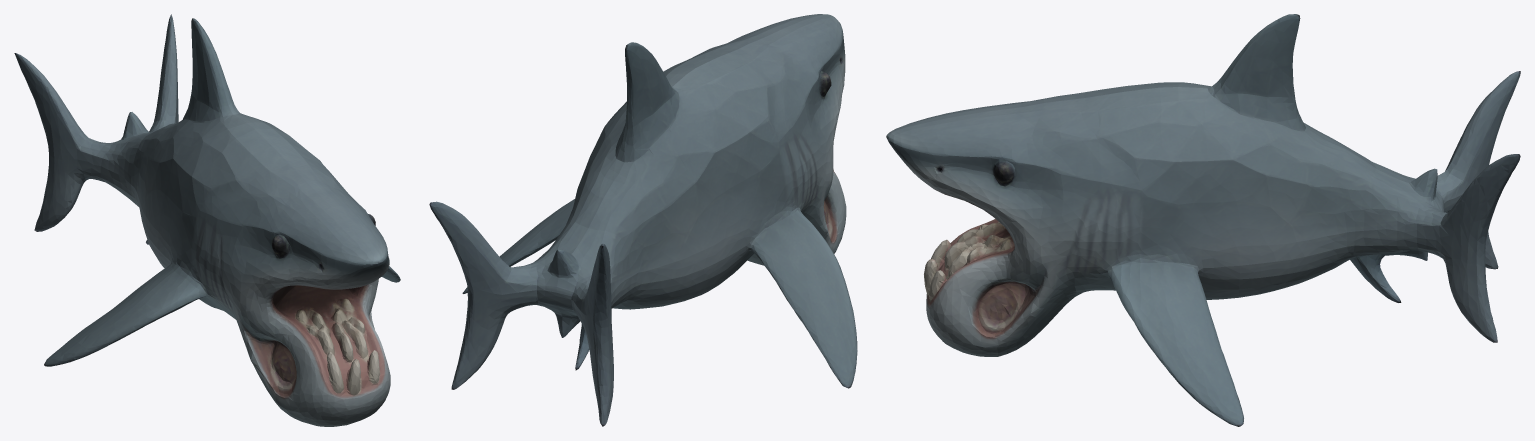
3 views of the same model, side by side, from view 1: azimuth 30°, elevation 25°; view 2: azimuth 150°, elevation 25°; view 3: azimuth 270°, elevation 25° (orthographic). The views are drawn at different scales.
Visible parts, largest first — view 1: world; view 2: world; view 3: world.
Boxes of the visible parts, x1,y1,x2,y2 form: world: (14, 14, 400, 426); world: (429, 14, 857, 426); world: (886, 14, 1520, 426).
Bounding box in the file's own units: 0.7022 × 0.5752 × 0.9922.
Materials: 1 (1 with a texture image).
